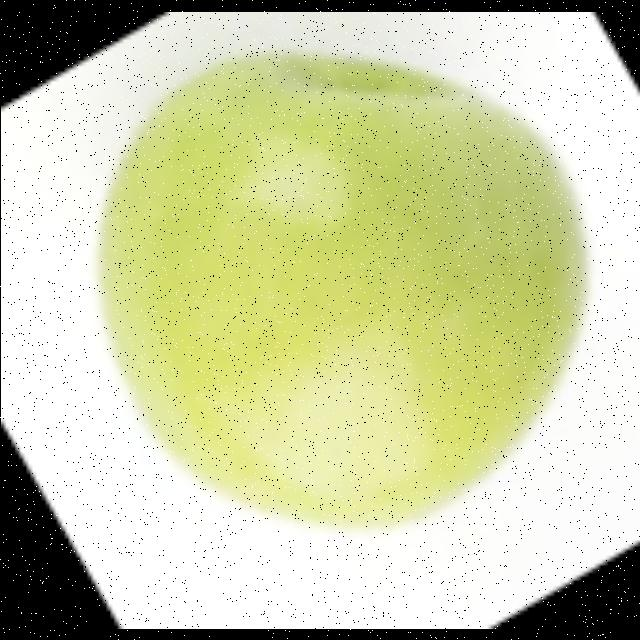Apel Segar: (97, 63, 595, 527)
